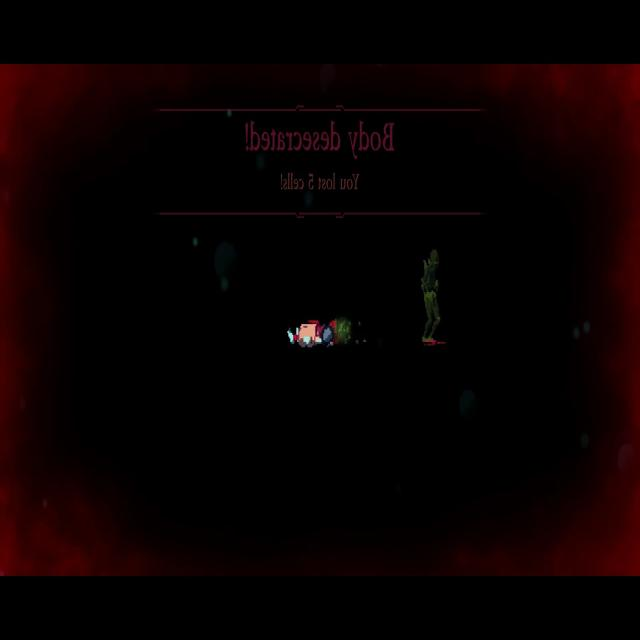agents: (277, 304, 357, 362)
enemy_green_puncher: (417, 240, 448, 352)
